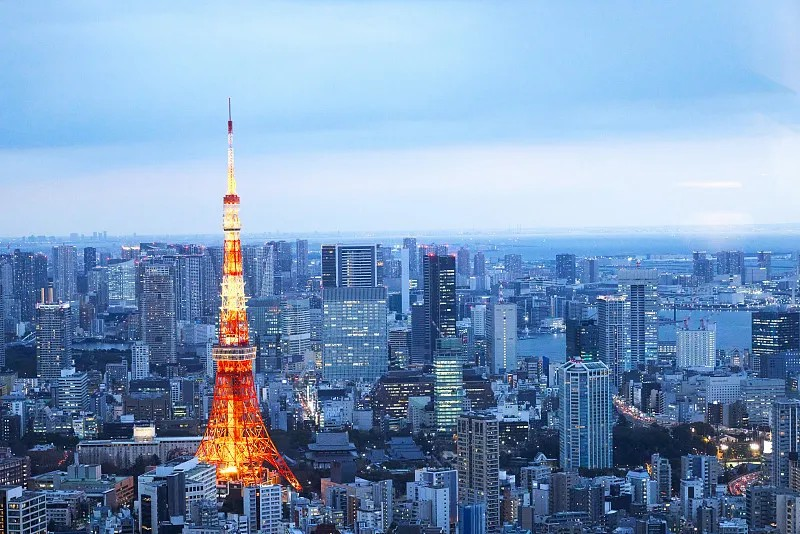Tokyo: (191, 95, 305, 494)
